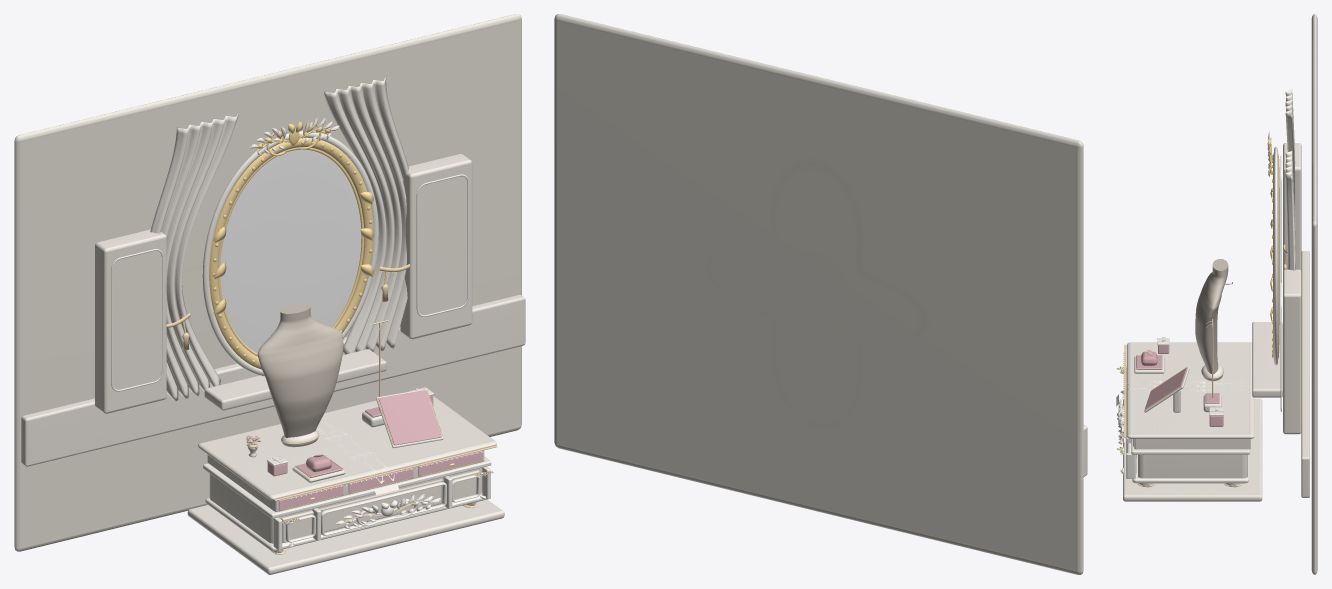
File: main-display-scene.glb
3 renders of one model, left to right at view 1: azimuth 30°, elevation 25°; view 2: azimuth 150°, elevation 25°; view 3: azimuth 270°, elevation 25°, orthographic. The views are drawn at different scales.
Parts seen in each view (by area): view 1: Fixed_Background_06 | warm oyster wall, Fixed_Background_01 | warm ivory lacquer, Fixed_01 | warm ivory lacquer, Fixed_Background_08 | pale warm drapery, Fixed_Background_16 | softened silver mirror, Fixed_Display | warm ivory velvet, Fixed_02 | ivory carved edges, Fixed_Background_Mirror | pale champagne mirror satin gold, Fixed_Background_02 | ivory carved edges, Fixed_Display | pale blush suede, Fixed_07 | dusty blush silk, Fixed_Background_Mirror | pale champagne mirror polished gol (+2 smaller); view 2: Fixed_Background_06 | warm oyster wall; view 3: Fixed_01 | warm ivory lacquer, Fixed_Background_01 | warm ivory lacquer, Fixed_Background_06 | warm oyster wall, Fixed_02 | ivory carved edges, Fixed_Display | warm ivory velvet, Fixed_Background_08 | pale warm drapery, Fixed_Background_02 | ivory carved edges, Fixed_Display | pale blush suede, Fixed_04 | satin champagne brass, Fixed_Background_Mirror | pale champagne mirror satin gold, Fixed_09 | floral ecru lace cutout, Fixed_07 | dusty blush silk.
Part boxes in pixels (x1,y1,x2,y2): Fixed_Background_06 | warm oyster wall: [14, 14, 521, 551]; Fixed_Background_01 | warm ivory lacquer: [21, 117, 525, 466]; Fixed_01 | warm ivory lacquer: [187, 389, 504, 574]; Fixed_Background_08 | pale warm drapery: [150, 76, 408, 401]; Fixed_Background_16 | softened silver mirror: [220, 149, 361, 352]; Fixed_Display | warm ivory velvet: [257, 304, 343, 437]; Fixed_02 | ivory carved edges: [203, 387, 491, 551]; Fixed_Background_Mirror | pale champagne mirror satin gold: [209, 121, 373, 369]; Fixed_Background_02 | ivory carved edges: [111, 118, 468, 391]; Fixed_Display | pale blush suede: [296, 390, 441, 477]; Fixed_07 | dusty blush silk: [267, 395, 482, 510]; Fixed_Background_Mirror | pale champagne mirror polished gol: [212, 141, 372, 363]; Fixed_Background_06 | warm oyster wall: [554, 14, 1083, 574]; Fixed_01 | warm ivory lacquer: [1118, 342, 1262, 501]; Fixed_Background_01 | warm ivory lacquer: [1252, 131, 1309, 497]; Fixed_Background_06 | warm oyster wall: [1311, 14, 1317, 574]; Fixed_02 | ivory carved edges: [1117, 338, 1249, 483]; Fixed_Display | warm ivory velvet: [1195, 259, 1232, 373]; Fixed_Background_08 | pale warm drapery: [1285, 89, 1295, 270]; Fixed_Background_02 | ivory carved edges: [1268, 132, 1281, 411]; Fixed_Display | pale blush suede: [1136, 350, 1219, 408]; Fixed_04 | satin champagne brass: [1117, 344, 1242, 486]; Fixed_Background_Mirror | pale champagne mirror satin gold: [1267, 138, 1278, 358]; Fixed_09 | floral ecru lace cutout: [1116, 381, 1245, 406]; Fixed_07 | dusty blush silk: [1133, 345, 1223, 446].
Bounding box in the file's own units: 0.7703 × 0.6045 × 0.3114.
17 materials, 5 textured.
